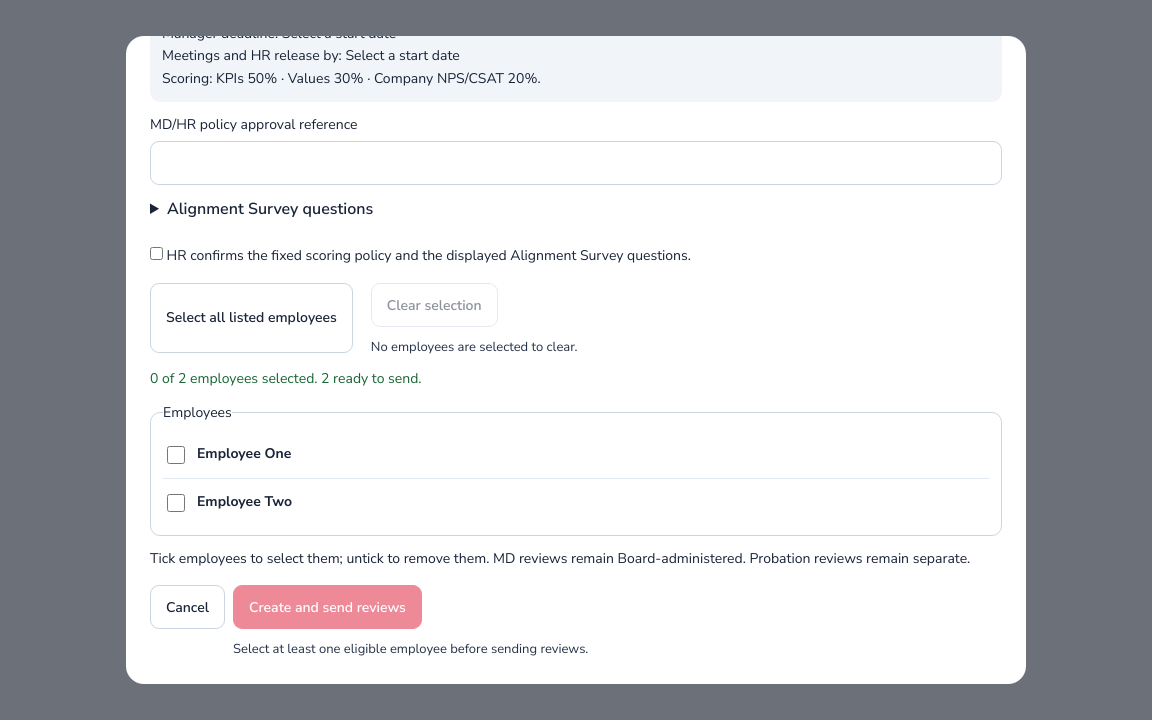
Test: employee checkboxes toggle individually and support selecting and clearing all
This screenshot has width=1152, height=720.
Later steps or results of the test are not shown.
(page scrolled)
Click the checkbox labelled "Employee One".
click(176, 454)  # box [167,446,185,464]
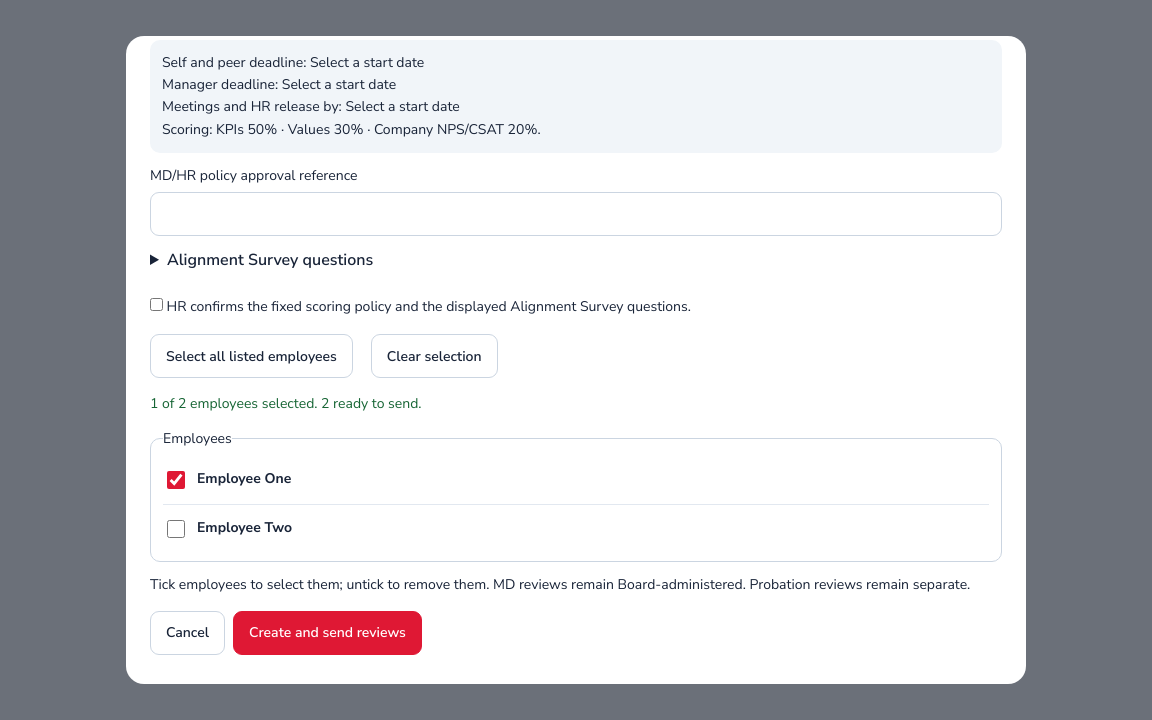
Click the checkbox labelled "Employee Two".
click(176, 528)  # box [167,520,185,538]
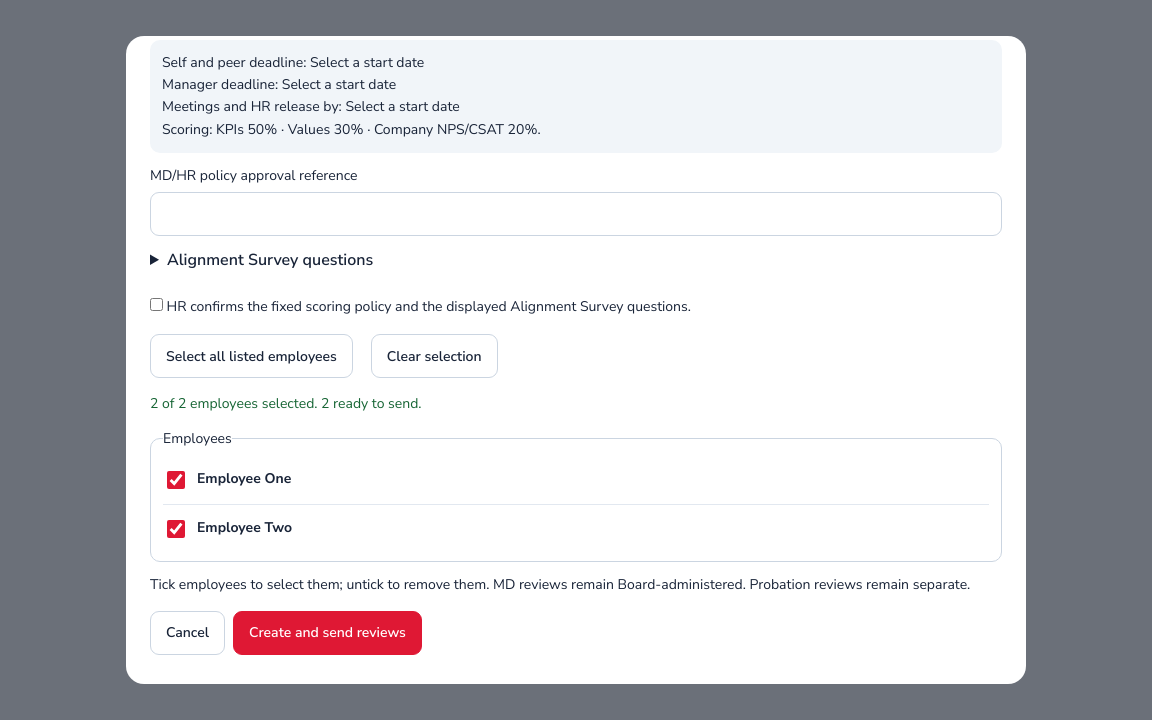
Click the checkbox labelled "Employee One".
click(176, 480)  # box [167,471,185,489]
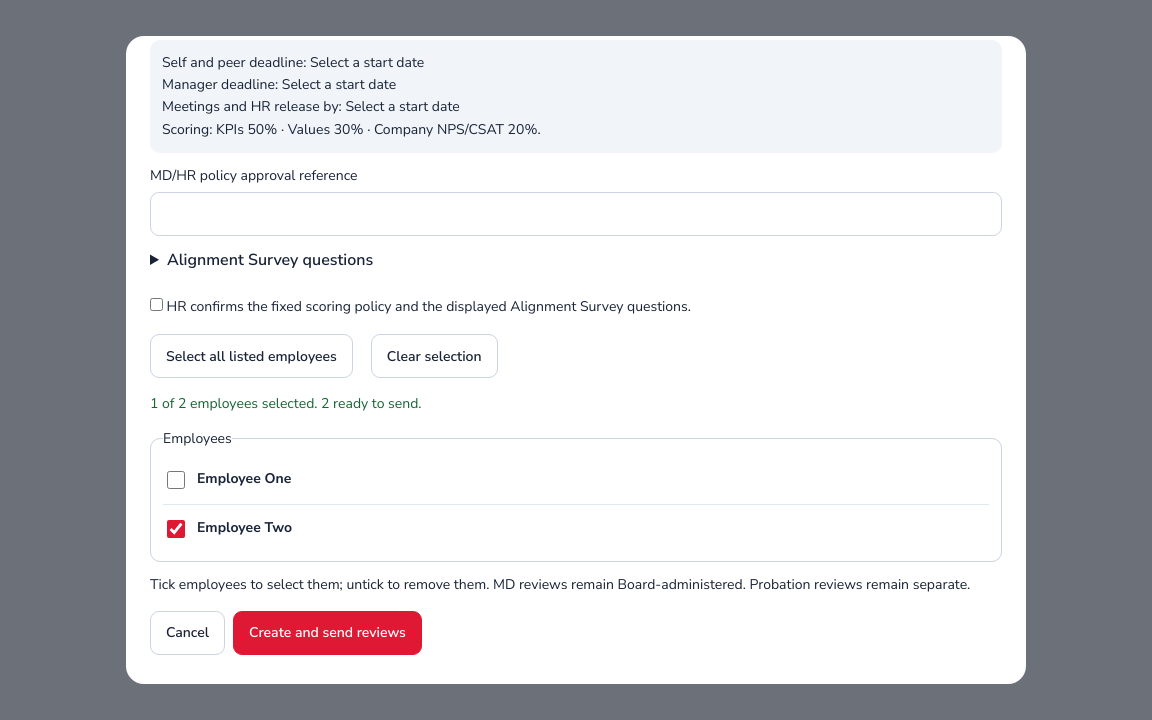
Now the checkbox labelled "Employee One" is not checked, box [167,471,185,489]
Now the checkbox labelled "Employee Two" is checked, box [167,520,185,538]
Now the text "1 of 2 employees selected" is shown, box [150,394,422,413]
